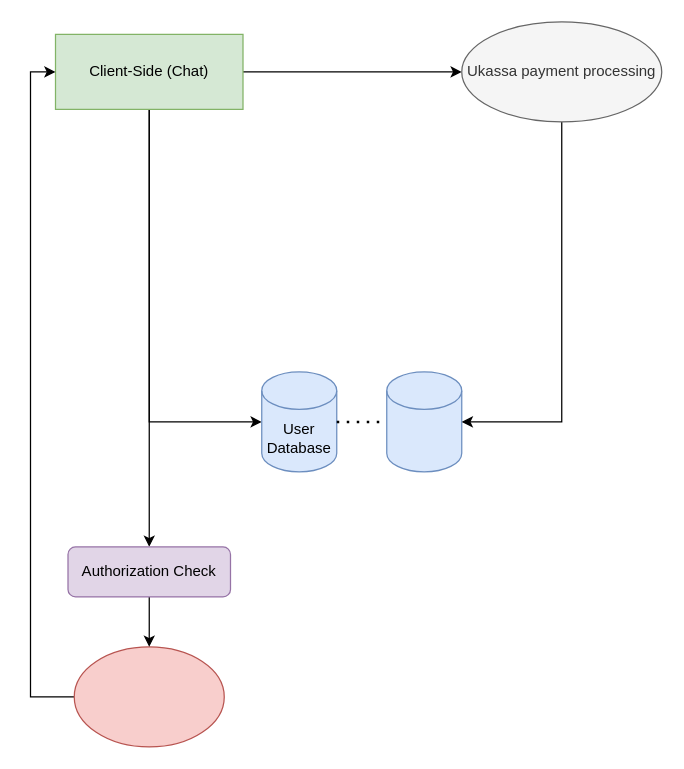
Some shapes in this 684 by 769 pixel diagram are drawn without their labels. The shapes that lost their labels are listed below. From the top down, each one's centre as x and y in pixels, then its label:
At pixel 424 421: "Invoice Database".
At pixel 148 696: "OpenAI API".
